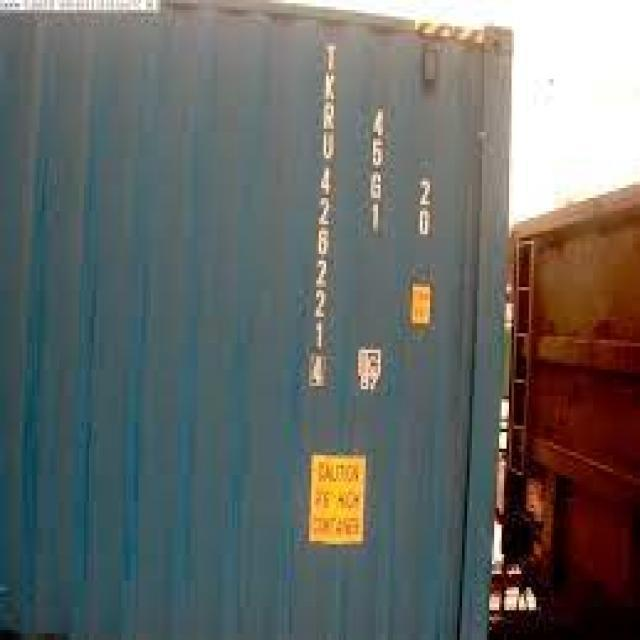ISO: (363, 98, 387, 242)
container_number: (307, 34, 333, 396)
